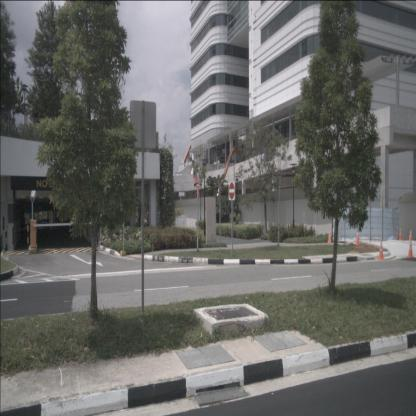cone: (377, 240, 386, 260), (406, 240, 414, 258), (326, 229, 333, 244), (354, 230, 360, 245), (398, 226, 403, 240), (408, 229, 413, 240)
